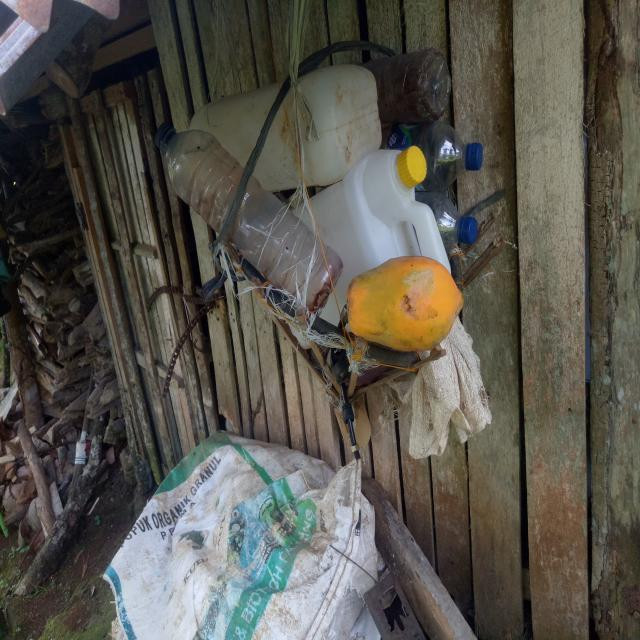Pepaya rippen: (342, 250, 473, 366)
